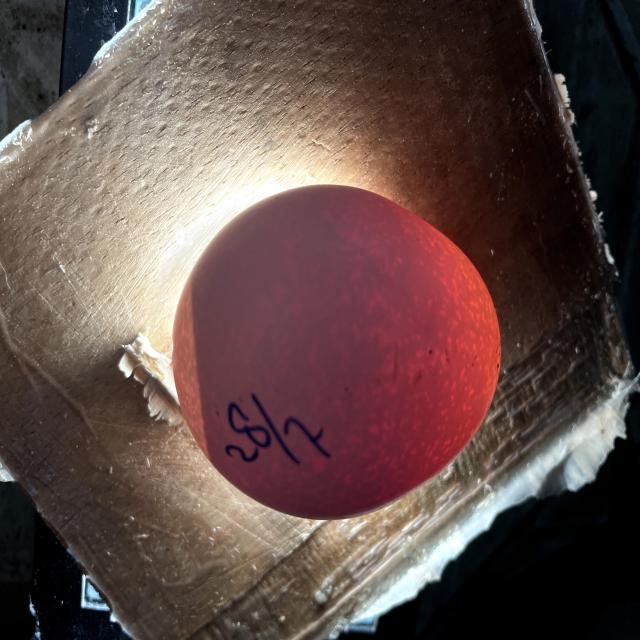fertile: (173, 185, 500, 518)
